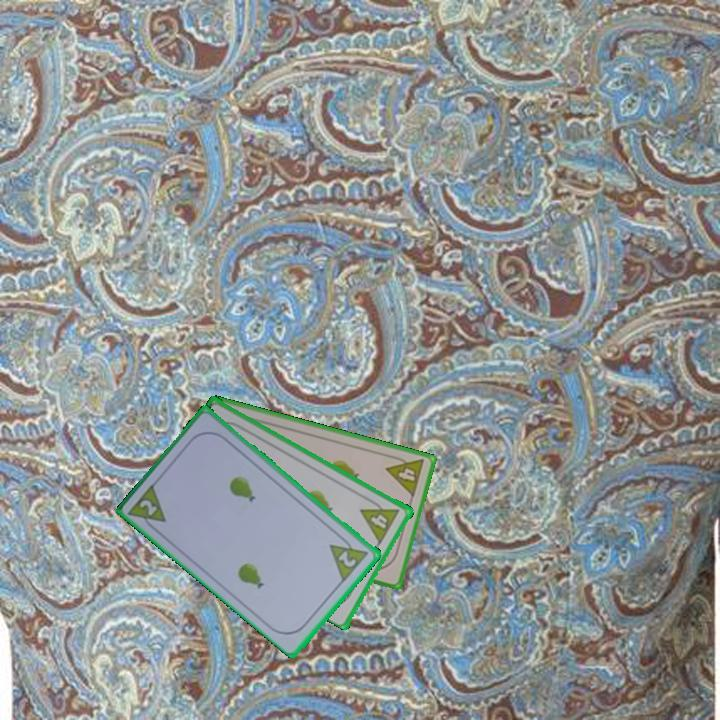2p: (125, 480, 169, 536), (326, 531, 372, 584)
4p: (357, 494, 403, 546), (383, 451, 427, 500)
